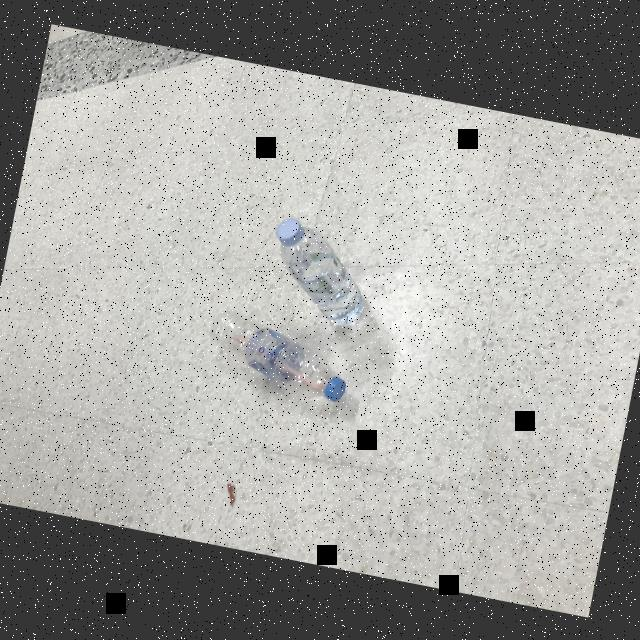plastic_bottle: (200, 305, 358, 407), (260, 215, 382, 332)
